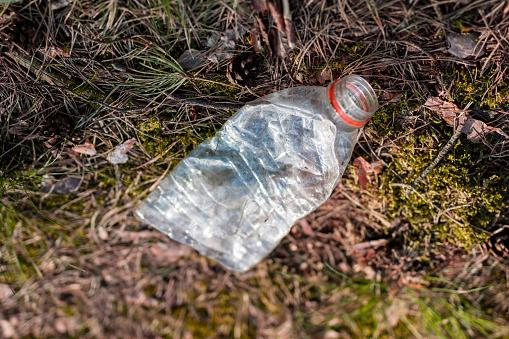Plastic: (138, 71, 381, 272)
